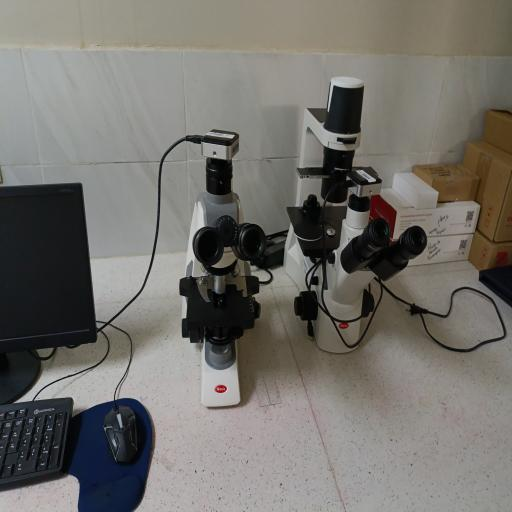Microscopio_camara: (277, 59, 430, 376), (156, 118, 273, 418)
